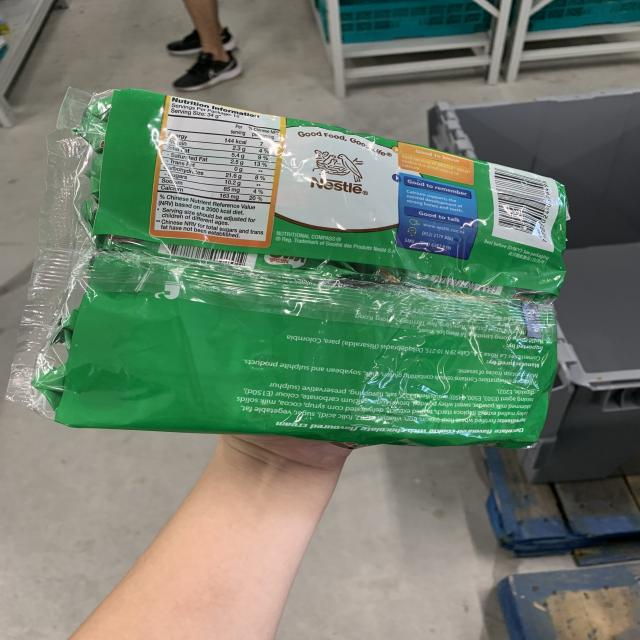object_name: (61, 94, 551, 448)
